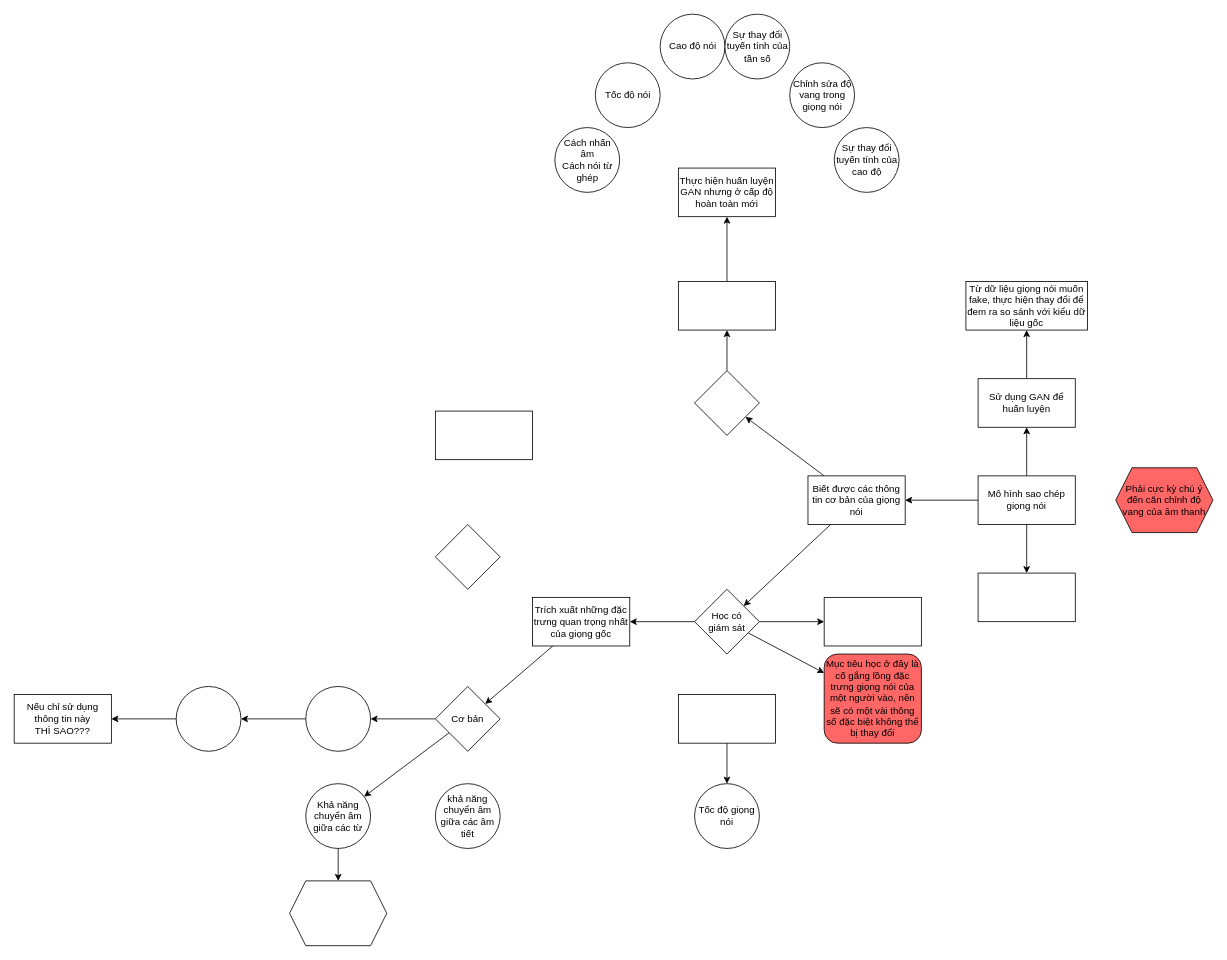
Image size: 1227x960. Some labels were removed from this diagram. The shapes that lost their labels are listed below. From the top down, each one's centre as x and y in pixels, then its label:
At (x=727, y=305): "Từ dữ liệu câu nói có sẵn Kết hợp với giọng nói và tính cách".
At (x=726, y=402): "Tạo sinh".
At (x=484, y=435): "Cần visualize được cách phát âm các từ cơ bản".
At (x=467, y=556): "Nâng cao".
At (x=1026, y=597): "Sẽ không có xóa ồn và mặc định âm thanh sạch".
At (x=872, y=621): "Sự thay đổi tuyến tính trong mô hình giọng nói".
At (x=208, y=718): "Giọng nói khi ở mức tần số cơ bản".
At (x=338, y=718): "Tần số cơ bản NHẤT".
At (x=727, y=718): "Những đặc trưng giọng nói không thể sử dụng".
At (x=338, y=913): "Khả năng cao cần phải có một đoạn code riêng xử lý vang".
